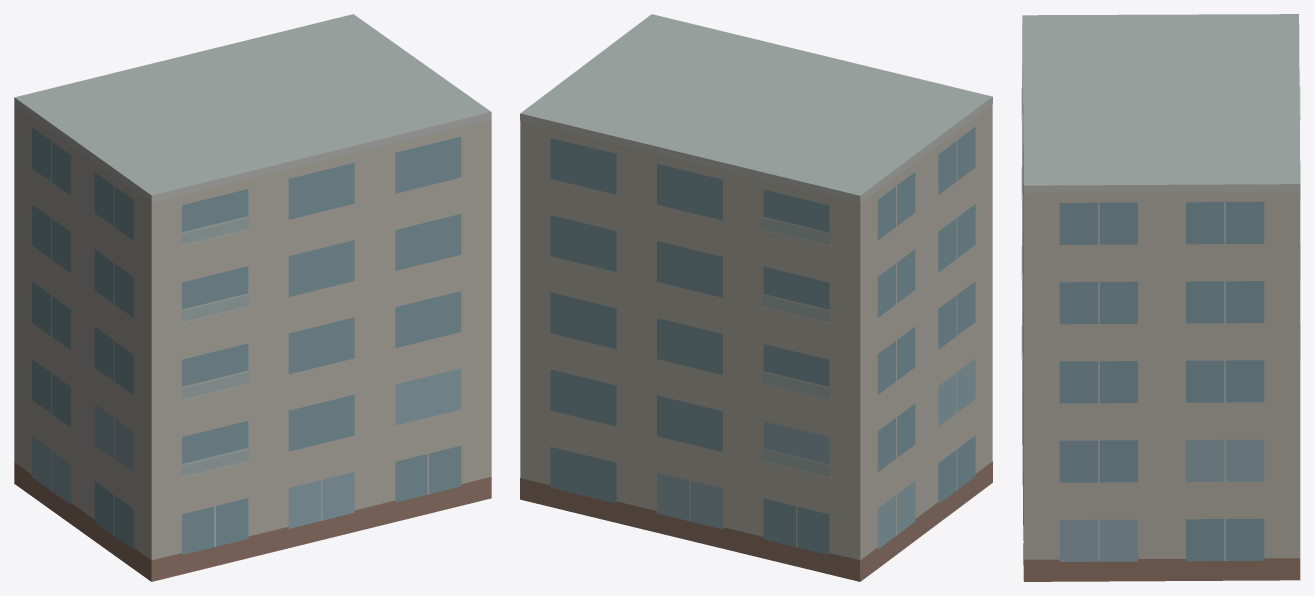
Rendered from survey-upis-32651931.glb.
3 views of the same model, side by side, from view 1: azimuth 30°, elevation 25°; view 2: azimuth 150°, elevation 25°; view 3: azimuth 270°, elevation 25° (orthographic). The views are drawn at different scales.
Visible parts, largest first — view 1: survey-upis-32651931.tmp; view 2: survey-upis-32651931.tmp; view 3: survey-upis-32651931.tmp.
Boxes of the visible parts, bbox=[...] form: survey-upis-32651931.tmp: bbox=[14, 14, 491, 581]; survey-upis-32651931.tmp: bbox=[520, 14, 992, 581]; survey-upis-32651931.tmp: bbox=[1021, 14, 1300, 581].
Size of the model in its own units: 11.9 by 12.8 by 8.19.
